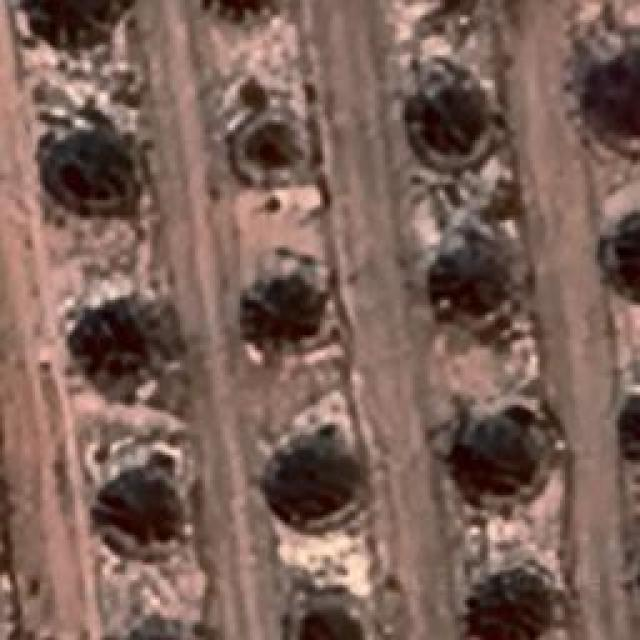PalmTree: (70, 24, 330, 619), (77, 292, 185, 400), (102, 464, 200, 572), (264, 424, 364, 528), (460, 398, 550, 498), (50, 121, 135, 201), (464, 572, 556, 640), (415, 72, 490, 150), (246, 110, 319, 190), (258, 267, 328, 335), (446, 238, 512, 304), (587, 47, 640, 127), (108, 609, 204, 640), (195, 0, 288, 30), (616, 390, 640, 468), (612, 208, 640, 272), (105, 621, 199, 640), (620, 391, 640, 463)
